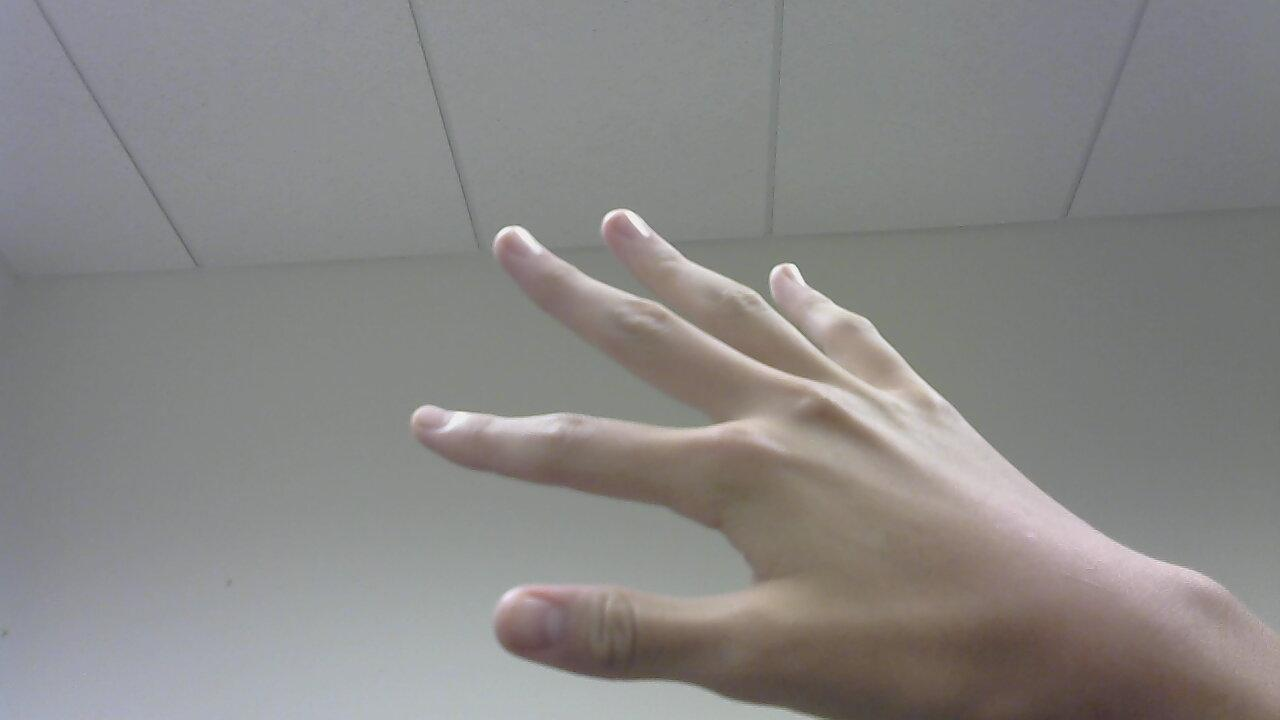hands: (408, 194, 1148, 720)
